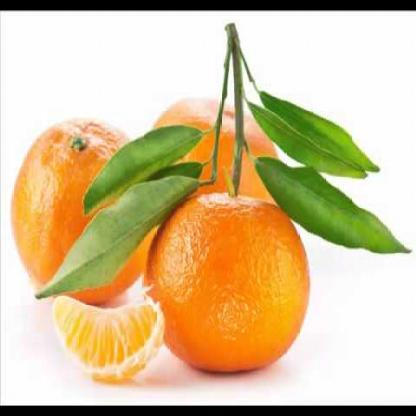orange: (142, 187, 317, 387), (0, 115, 163, 307), (144, 101, 284, 272)
